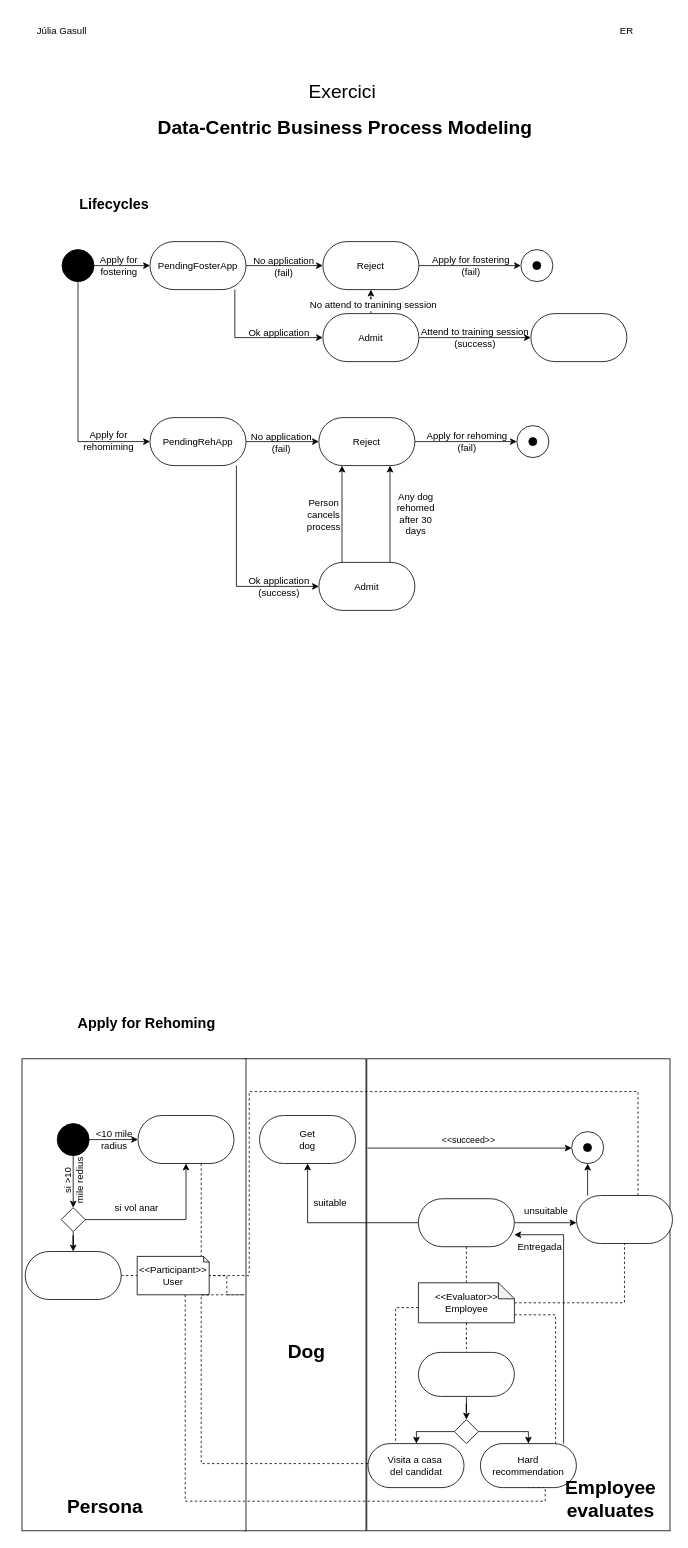
The diagram is 688 pixels wide and 1548 high, and some of its shapes have lost their labels. Each missing label, with the box of its shape:
Become Foster Carer: (530, 313, 627, 362)
Evaluatory candidate's application: (418, 1352, 514, 1396)
Fill on entire form: (24, 1251, 121, 1300)
Give reason: (576, 1195, 672, 1244)
Make decision: (418, 1198, 514, 1247)
Visitor/Interview Battersea: (137, 1115, 234, 1164)
